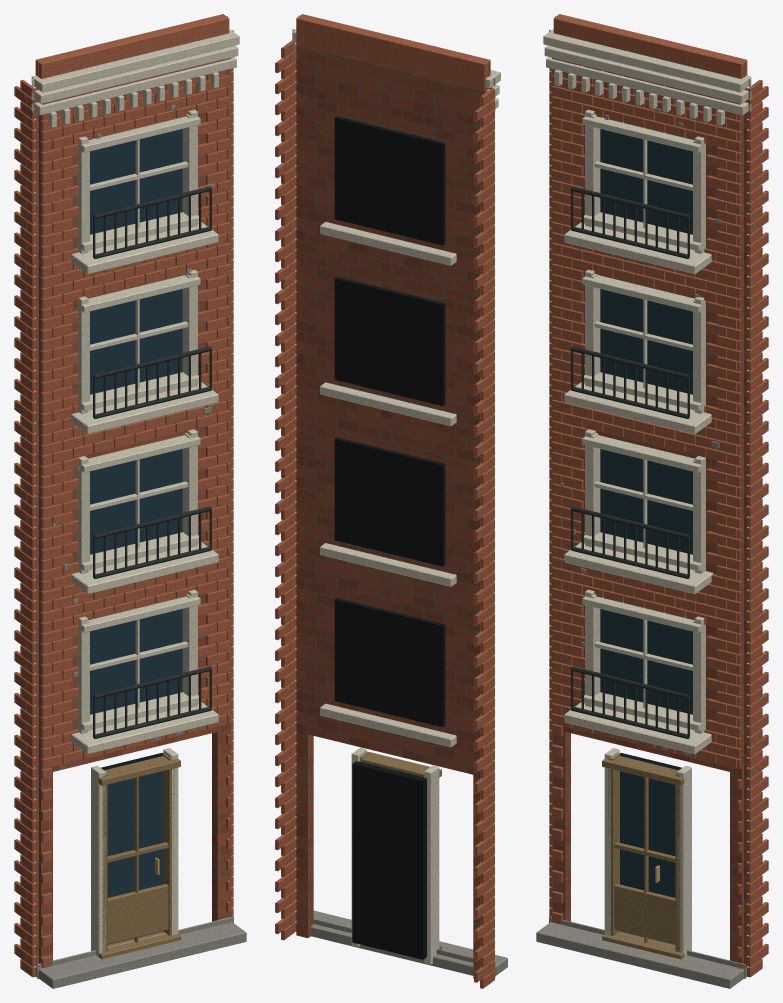
The model's file is OFFC22_lod0.glb.
The picture shows the model from 3 angles, left to right: view 1: azimuth 30°, elevation 25°; view 2: azimuth 150°, elevation 25°; view 3: azimuth 330°, elevation 25°; orthographic projection.
Visible parts, largest first — view 1: OFFC22_FRONT_LOD0; view 2: OFFC22_FRONT_LOD0; view 3: OFFC22_FRONT_LOD0.
Boxes of the visible parts, box(x1,y1,x2,y2) form: OFFC22_FRONT_LOD0: box(14, 14, 246, 988); OFFC22_FRONT_LOD0: box(275, 14, 507, 988); OFFC22_FRONT_LOD0: box(536, 14, 768, 988).
Bounding box in the file's own units: 3.44 × 14.86 × 1.13.
12 materials, 9 textured.
